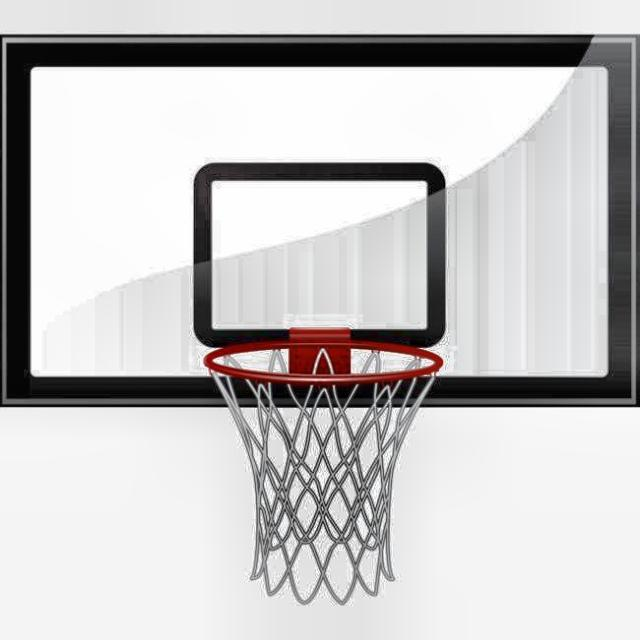rim: (206, 342, 446, 604)
